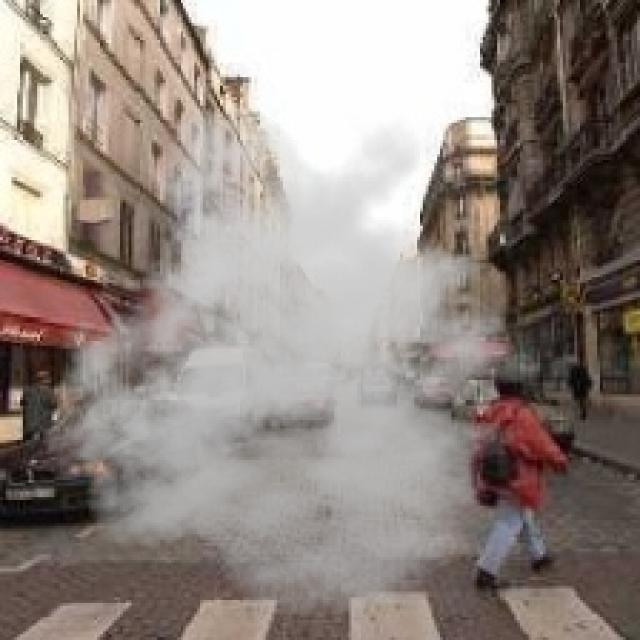smoke: (29, 100, 568, 617)
